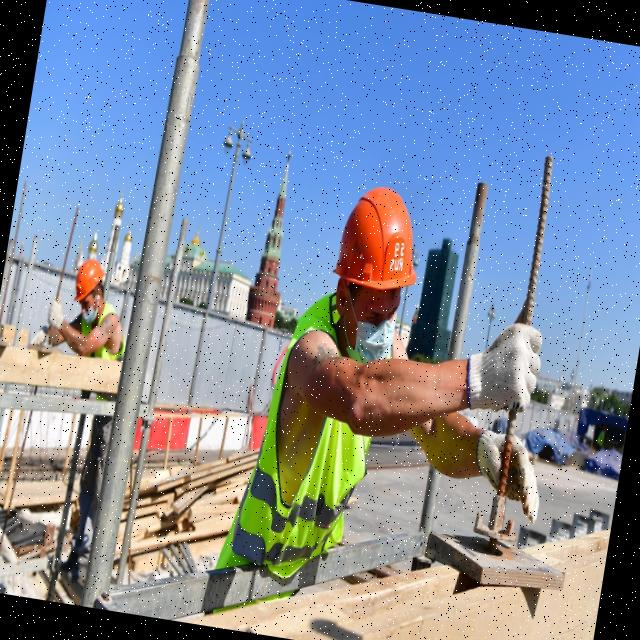Helmet: (330, 182, 432, 306), (73, 258, 109, 309)
Jacket: (231, 308, 394, 589), (77, 307, 129, 360)
